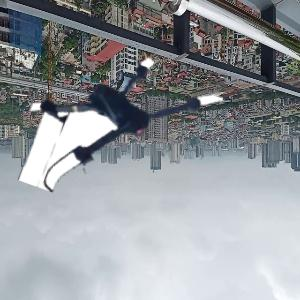drone: (32, 25, 221, 214)
